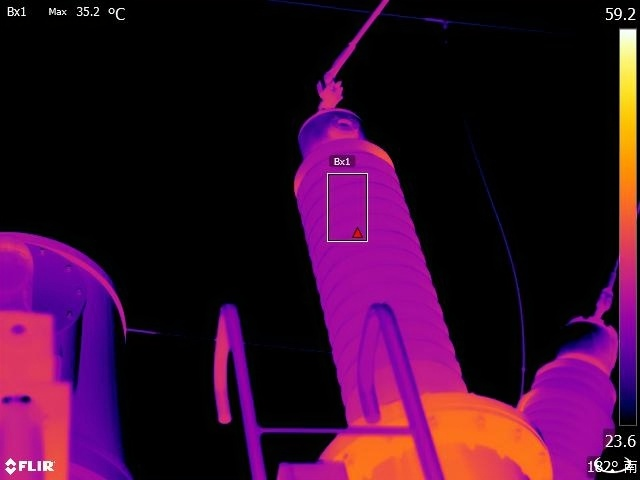oil conservator: (1, 178, 180, 480)
tube: (286, 85, 486, 467), (498, 303, 620, 463)
